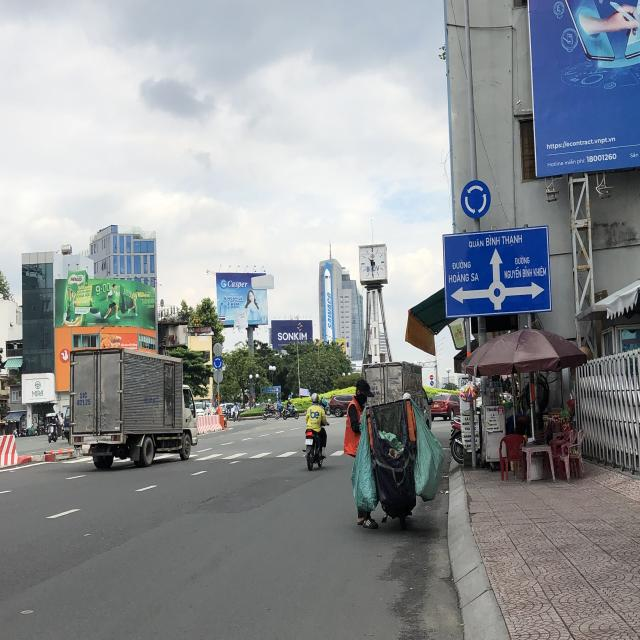Bien bao noi giao nhau chay theo vong xuyen: (456, 177, 494, 224), (212, 355, 224, 370)
